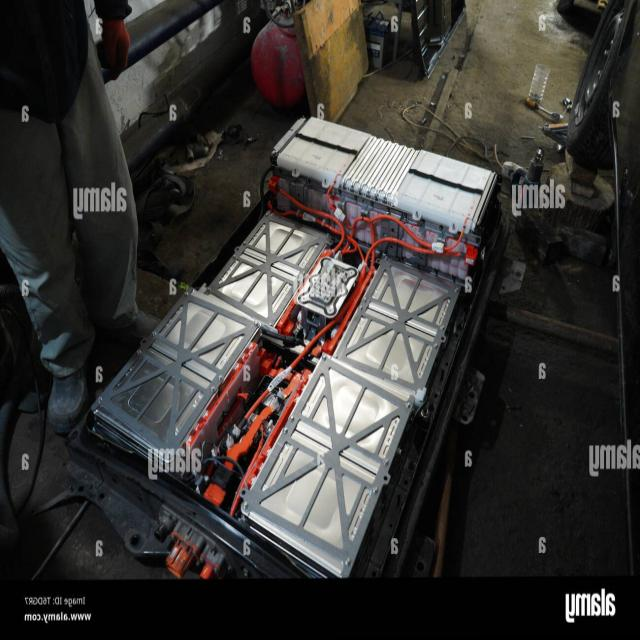Battery Module: (251, 366, 397, 556), (106, 298, 252, 453), (280, 118, 485, 225), (342, 264, 448, 388), (215, 217, 321, 322), (289, 168, 299, 178)
Bolt: (342, 554, 354, 571), (214, 371, 227, 384), (402, 398, 413, 413), (381, 453, 390, 470), (226, 253, 238, 264), (370, 483, 380, 496), (150, 327, 158, 341), (240, 499, 250, 510), (250, 320, 260, 331), (180, 290, 190, 301), (437, 322, 446, 334), (451, 285, 463, 294), (96, 394, 105, 406), (203, 284, 213, 293), (293, 277, 303, 286), (282, 426, 290, 437), (300, 266, 306, 280), (361, 294, 369, 304), (262, 211, 270, 221), (288, 413, 295, 424), (324, 231, 332, 240), (431, 341, 438, 351), (210, 385, 217, 395), (382, 253, 388, 264), (321, 354, 329, 362), (240, 241, 247, 250), (356, 305, 363, 313), (134, 348, 141, 356), (334, 353, 340, 361)
Bus-bar: (204, 372, 301, 504), (231, 370, 311, 513), (186, 342, 257, 449), (204, 407, 274, 505), (277, 252, 327, 334)
Cable: (237, 236, 467, 436), (324, 182, 440, 257), (275, 188, 344, 256)
